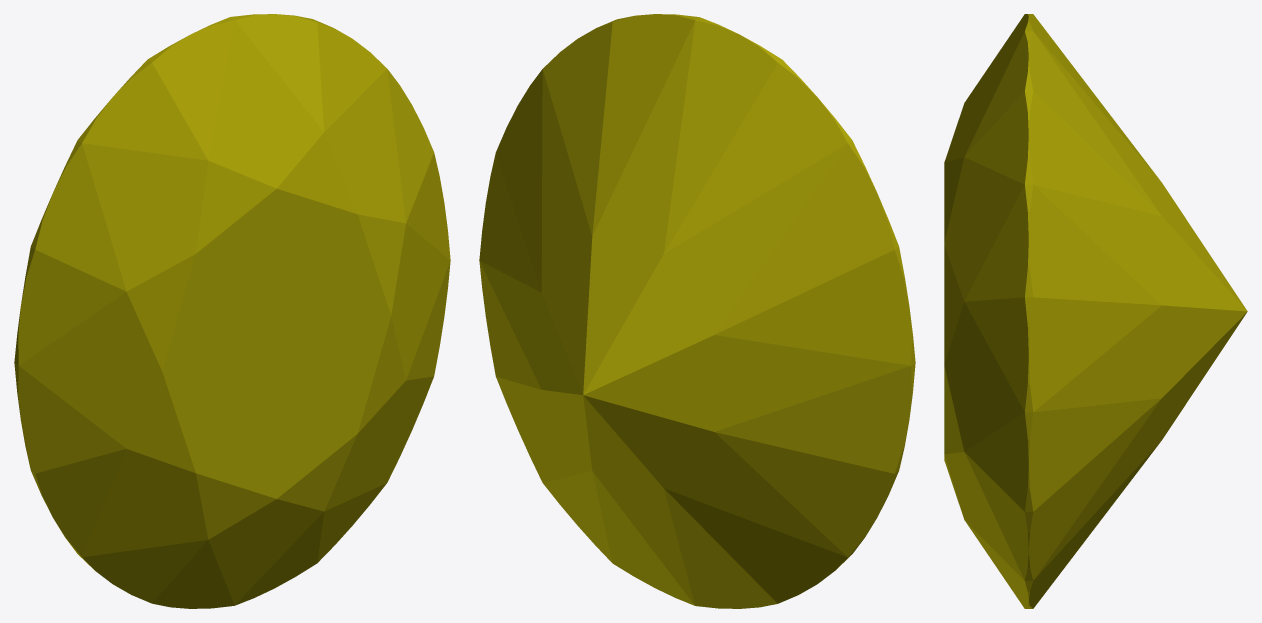
Rendered from audrey.glb.
The picture shows the model from 3 angles, left to right: view 1: azimuth 30°, elevation 25°; view 2: azimuth 150°, elevation 25°; view 3: azimuth 270°, elevation 25°; orthographic projection. The views are drawn at different scales.
Visible parts, largest first — view 1: Audrey; view 2: Audrey; view 3: Audrey.
Part boxes in pixels (<box>): Audrey: <box>14,14,450,608</box>; Audrey: <box>479,14,915,608</box>; Audrey: <box>944,14,1247,608</box>.
Bounding box in the file's own units: 1.92 × 2.49 × 1.22.
